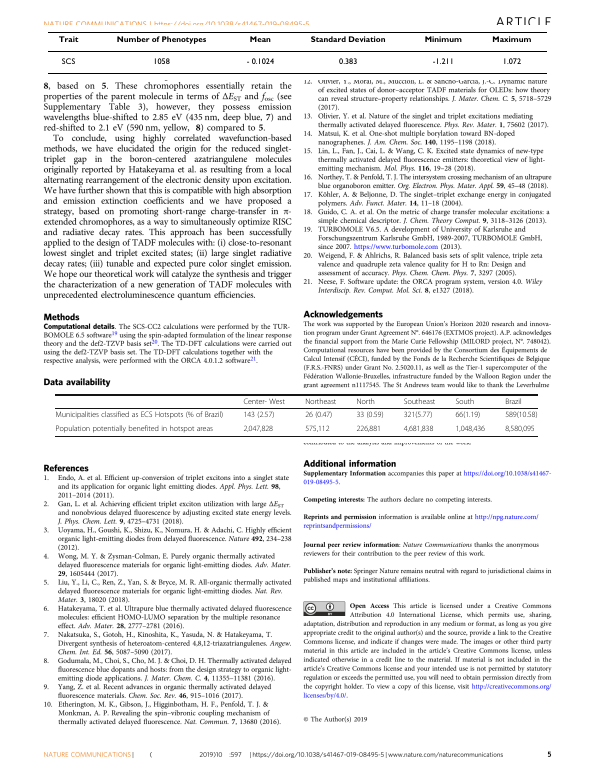borderless: (47, 30, 547, 73), (55, 393, 538, 436)
cell: (55, 410, 224, 420), (55, 424, 214, 434), (115, 35, 207, 44), (309, 35, 386, 44), (242, 397, 286, 406), (491, 35, 532, 44), (423, 35, 462, 44), (504, 410, 538, 420), (242, 410, 275, 420), (242, 424, 274, 434), (454, 424, 486, 434), (504, 424, 536, 434), (403, 424, 434, 434), (403, 410, 433, 420), (304, 397, 337, 406), (403, 397, 436, 406), (304, 410, 333, 420), (355, 410, 384, 420), (454, 410, 481, 420), (355, 424, 382, 434), (304, 424, 330, 434), (245, 57, 275, 65), (248, 35, 271, 44), (57, 35, 79, 44), (355, 397, 376, 406), (454, 397, 475, 406), (431, 57, 454, 65), (504, 397, 523, 406), (501, 57, 522, 65), (338, 57, 358, 65), (152, 57, 170, 65), (60, 57, 76, 65)
